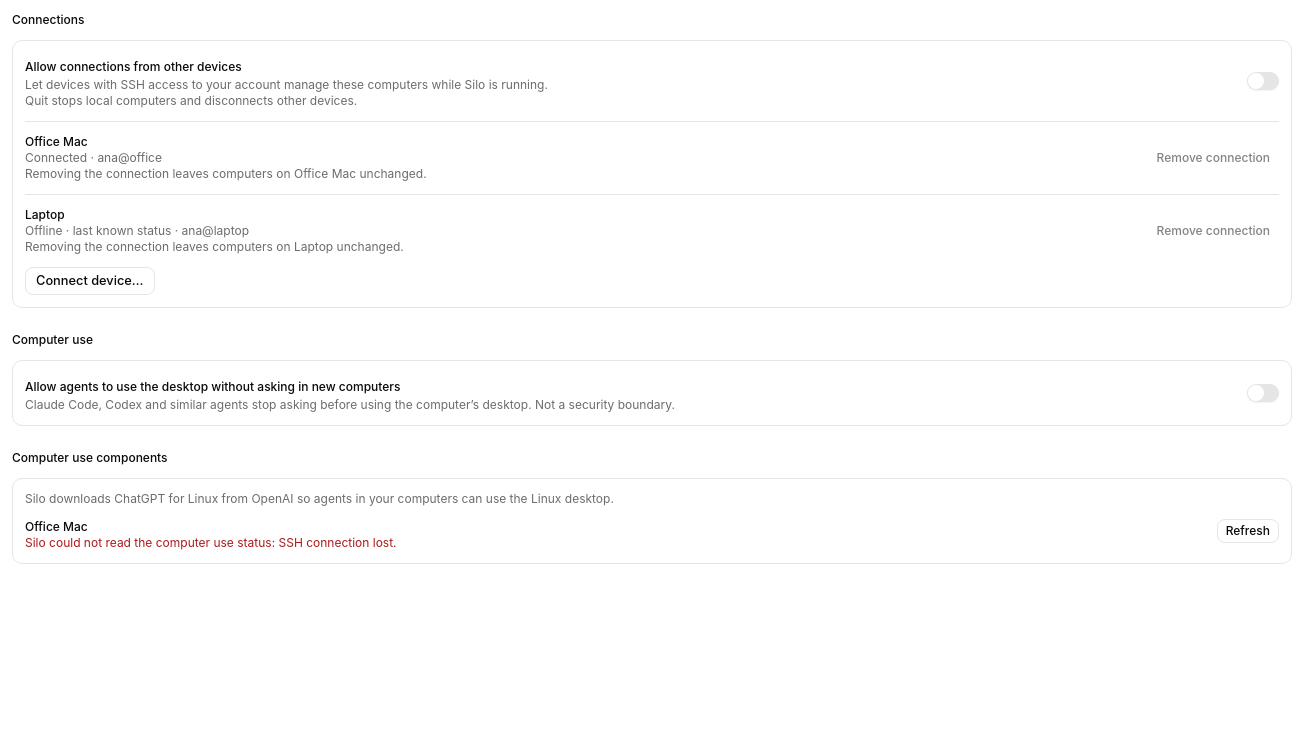
Test: Computer use components › offers Refresh for a status that cannot be read and clears once it can
The image size is (1292, 732).
Expected: the message shows "SSH connection lost.", x1=25 y1=535 x2=397 y2=550
Click the button with aria-label "Refresh ChatGPT for Linux status on Office Mac" at [1248, 531], box x1=1217 y1=519 x2=1279 y2=543
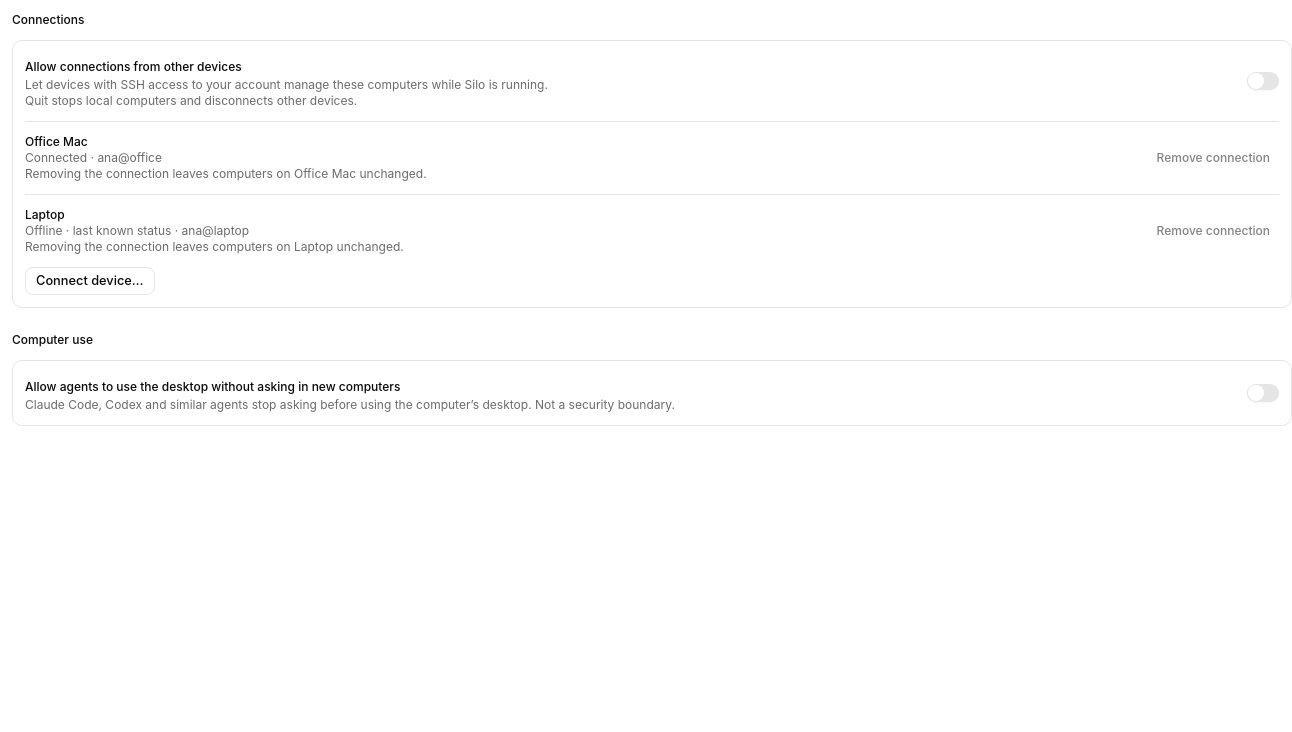
Now the heading "Computer use components" is gone
